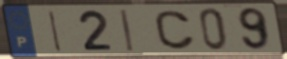0: (198, 6, 232, 52)
2: (77, 8, 117, 53)
9: (235, 6, 271, 53)
C: (152, 9, 198, 51)
I: (118, 8, 136, 53), (47, 9, 64, 54)
